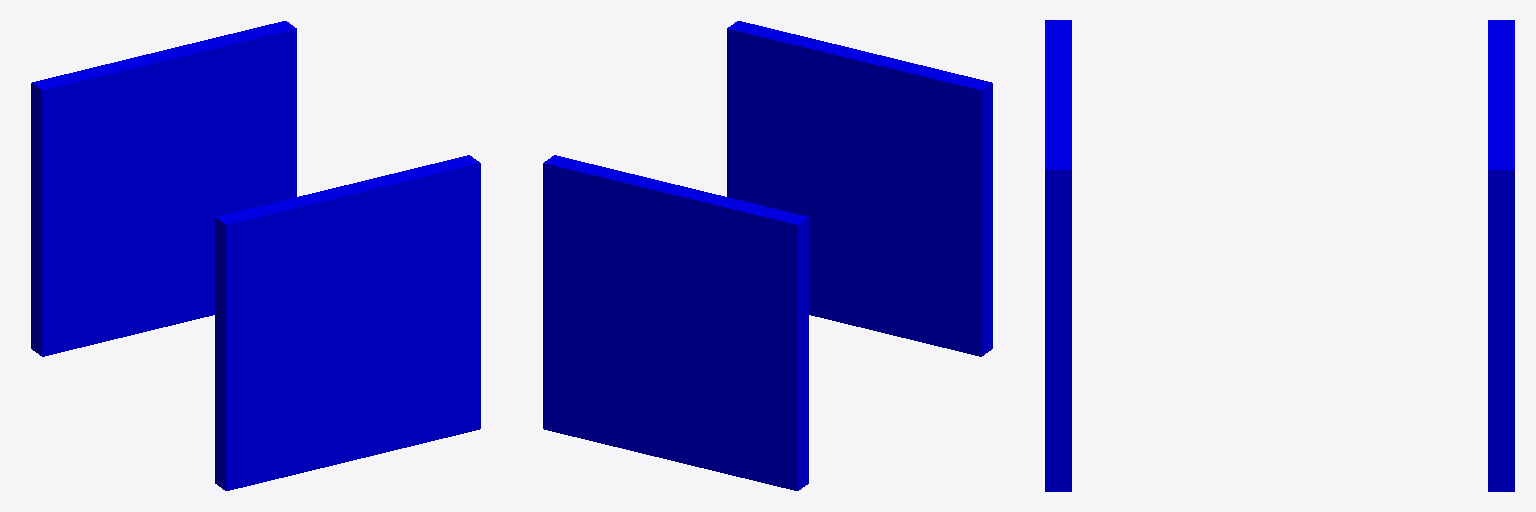
The robot description file, URDF, robot "vx300":
<?xml version="1.0" ?>
<!-- =================================================================================== -->
<!-- |    This document was autogenerated by xacro from vx300.urdf.xacro               | -->
<!-- |    EDITING THIS FILE BY HAND IS NOT RECOMMENDED                                 | -->
<!-- =================================================================================== -->
<robot name="vx300">
  <!-- <material name="interbotix_black">
    <texture filename="meshes/interbotix_black.png"/>
  </material> -->
  <link name="vx300/base_link">
    <visual>
      <origin rpy="0 0 1.5707963267948966" xyz="0 0 0"/>
      <geometry>
        <mesh filename="meshes/vx300_meshes/vx300_1_base.stl" scale="0.001 0.001 0.001"/>
      </geometry>
    </visual>
    <collision>
      <origin rpy="0 0 1.5707963267948966" xyz="0 0 0"/>
      <geometry>
        <mesh filename="meshes/vx300_meshes/vx300_1_base.stl" scale="0.001 0.001 0.001"/>
      </geometry>
    </collision>
    <inertial>
      <origin rpy="0 0 1.5707963267948966" xyz="-0.0534774000 -0.0005625750 0.0205961000"/>
      <mass value="0.969034"/>
      <inertia ixx="0.0060240000" ixy="0.0000471300" ixz="0.0000038510" iyy="0.0017000000" iyz="-0.0000841500" izz="0.0071620000"/>
    </inertial>
  </link>
  <joint name="waist" type="revolute">
    <axis xyz="0 0 1"/>
    <limit effort="30" lower="-3.141582653589793" upper="3.141582653589793" velocity="3.141592653589793"/>
    <origin rpy="0 0 0" xyz="0 0 0.079"/>
    <parent link="vx300/base_link"/>
    <child link="vx300/shoulder_link"/>
    <dynamics friction="0.1"/>
  </joint>

  <link name="vx300/shoulder_link">
    <visual>
      <origin rpy="0 0 1.5707963267948966" xyz="0 0 -0.003"/>
      <geometry>
        <mesh filename="meshes/vx300_meshes/vx300_2_shoulder.stl" scale="0.001 0.001 0.001"/>
      </geometry>
    </visual>
    <collision>
      <origin rpy="0 0 1.5707963267948966" xyz="0 0 -0.003"/>
      <geometry>
        <mesh filename="meshes/vx300_meshes/vx300_2_shoulder.stl" scale="0.001 0.001 0.001"/>
      </geometry>
    </collision>
    <inertial>
      <origin rpy="0 0 1.5707963267948966" xyz="0.0002592330 -0.0000033552 0.0116129000"/>
      <mass value="0.798614"/>
      <inertia ixx="0.0009388000" ixy="-0.0000000010" ixz="-0.0000000191" iyy="0.0011380000" iyz="0.0000059568" izz="0.0012010000"/>
    </inertial>
  </link>
  <joint name="shoulder" type="revolute">
    <axis xyz="0 1 0"/>
    <limit effort="20" lower="-1.8500490071139892" upper="1.2566370614359172" velocity="3.141592653589793"/>
    <origin rpy="0 0 0" xyz="0 0 0.04805"/>
    <parent link="vx300/shoulder_link"/>
    <child link="vx300/upper_arm_link"/>
    <dynamics friction="0.1"/>
  </joint>
  <link name="vx300/upper_arm_link">
    <visual>
      <origin rpy="0 0 1.5707963267948966" xyz="0 0 0"/>
      <geometry>
        <mesh filename="meshes/vx300_meshes/vx300_3_upper_arm.stl" scale="0.001 0.001 0.001"/>
      </geometry>
    </visual>
    <collision>
      <origin rpy="0 0 1.5707963267948966" xyz="0 0 0"/>
      <geometry>
        <mesh filename="meshes/vx300_meshes/vx300_3_upper_arm.stl" scale="0.001 0.001 0.001"/>
      </geometry>
    </collision>
    <inertial>
      <origin rpy="0 0 1.5707963267948966" xyz="0.0206949000 0.0000000004 0.2264590000"/>
      <mass value="0.792592"/>
      <inertia ixx="0.0089250000" ixy="0.0000000000" ixz="0.0000000000" iyy="0.0089370000" iyz="0.0012010000" izz="0.0009357000"/>
    </inertial>
  </link>
  <joint name="elbow" type="revolute">
    <axis xyz="0 1 0"/>
    <limit effort="15" lower="-1.7627825445142729" upper="1.6057029118347832" velocity="3.141592653589793"/>
    <origin rpy="0 0 0" xyz="0.05955 0 0.3"/>
    <parent link="vx300/upper_arm_link"/>
    <child link="vx300/forearm_link"/>
    <dynamics friction="0.1"/>
  </joint>
  <link name="vx300/forearm_link">
    <visual>
      <origin rpy="0 0 1.5707963267948966" xyz="0 0 0"/>
      <geometry>
        <mesh filename="meshes/vx300_meshes/vx300_4_forearm.stl" scale="0.001 0.001 0.001"/>
      </geometry>
    </visual>
    <collision>
      <origin rpy="0 0 1.5707963267948966" xyz="0 0 0"/>
      <geometry>
        <mesh filename="meshes/vx300_meshes/vx300_4_forearm.stl" scale="0.001 0.001 0.001"/>
      </geometry>
    </collision>
    <inertial>
      <origin rpy="0 0 1.5707963267948966" xyz="0.1812650000 -0.0002065037 0.0000000000"/>
      <mass value="0.544659"/>
      <inertia ixx="0.0054470000" ixy="-0.0000119800" ixz="0.0000000000" iyy="0.0002267000" iyz="0.0000000000" izz="0.0055740000"/>
    </inertial>
  </link>
  <joint name="wrist_angle" type="revolute">
    <axis xyz="0 1 0"/>
    <limit effort="5" lower="-1.8675022996339325" upper="2.234021442552742" velocity="3.141592653589793"/>
    <origin rpy="0 0 0" xyz="0.3 0 0"/>
    <parent link="vx300/forearm_link"/>
    <child link="vx300/wrist_link"/>
    <dynamics friction="0.1"/>
  </joint>
  <link name="vx300/wrist_link">
    <visual>
      <origin rpy="0 0 1.5707963267948966" xyz="0 0 0"/>
      <geometry>
        <mesh filename="meshes/vx300_meshes/vx300_5_wrist.stl" scale="0.001 0.001 0.001"/>
      </geometry>
    </visual>
    <collision>
      <origin rpy="0 0 1.5707963267948966" xyz="0 0 0"/>
      <geometry>
        <mesh filename="meshes/vx300_meshes/vx300_5_wrist.stl" scale="0.001 0.001 0.001"/>
      </geometry>
    </collision>
    <inertial>
      <origin rpy="0 0 1.5707963267948966" xyz="0.0467430000 -0.0000076652 0.0105650000"/>
      <mass value="0.115395"/>
      <inertia ixx="0.0000463100" ixy="0.0000000195" ixz="0.0000000023" iyy="0.0000451400" iyz="0.0000042002" izz="0.0000527000"/>
    </inertial>
  </link>
  <joint name="wrist_rotate" type="revolute">
    <axis xyz="1 0 0"/>
    <limit effort="1" lower="-3.141582653589793" upper="3.141582653589793" velocity="3.141592653589793"/>
    <origin rpy="0 0 0" xyz="0.069744 0 0"/>
    <parent link="vx300/wrist_link"/>
    <child link="vx300/gripper_link"/>
    <dynamics friction="0.1"/>
  </joint>
  <link name="vx300/gripper_link">
    <visual>
      <origin rpy="0 0 1.5707963267948966" xyz="-0.02 0 0"/>
      <geometry>
        <mesh filename="meshes/vx300_meshes/vx300_6_gripper.stl" scale="0.001 0.001 0.001"/>
      </geometry>
    </visual>
    <collision>
      <origin rpy="0 0 1.5707963267948966" xyz="-0.02 0 0"/>
      <geometry>
        <mesh filename="meshes/vx300_meshes/vx300_6_gripper.stl" scale="0.001 0.001 0.001"/>
      </geometry>
    </collision>
    <inertial>
      <origin rpy="0 0 1.5707963267948966" xyz="0.0230010000 0.0000000000 0.0115230000"/>
      <mass value="0.097666"/>
      <inertia ixx="0.0000326800" ixy="0.0000000000" ixz="0.0000000000" iyy="0.0000243600" iyz="0.0000002785" izz="0.0000211900"/>
    </inertial>
  </link>
  <joint name="ee_arm" type="fixed">
    <axis xyz="1 0 0"/>
    <origin rpy="0 0 0" xyz="0.042825 0 0"/>
    <parent link="vx300/gripper_link"/>
    <child link="vx300/ee_arm_link"/>
  </joint>
  <link name="vx300/ee_arm_link">
    <inertial>
      <mass value="0.001"/>
      <inertia ixx="0.0001" ixy="0" ixz="0" iyy="0.0001" iyz="0" izz="0.0001"/>
    </inertial>
  </link>
  <joint name="gripper" type="fixed">
    <axis xyz="1 0 0"/>
    <limit effort="1" velocity="3.141592653589793"/>
    <origin rpy="0 0 0" xyz="0.005675 0 0"/>
    <parent link="vx300/ee_arm_link"/>
    <child link="vx300/gripper_prop_link"/>
    <dynamics friction="0.1"/>
  </joint>
  <link name="vx300/gripper_prop_link">
    <visual>
      <origin rpy="0 0 1.5707963267948966" xyz="-0.0685 0 0"/>
      <geometry>
        <mesh filename="meshes/vx300_meshes/vx300_7_gripper_prop.stl" scale="0.001 0.001 0.001"/>
      </geometry>
    </visual>
    <collision>
      <origin rpy="0 0 1.5707963267948966" xyz="-0.0685 0 0"/>
      <geometry>
        <mesh filename="meshes/vx300_meshes/vx300_7_gripper_prop.stl" scale="0.001 0.001 0.001"/>
      </geometry>
    </collision>
    <inertial>
      <origin rpy="0 0 1.5707963267948966" xyz="0.0023780000 0.0000000285 0.0000000000"/>
      <mass value="0.008009"/>
      <inertia ixx="0.0000020386" ixy="0.0000000000" ixz="0.0000006559" iyy="0.0000042979" iyz="0.0000000000" izz="0.0000023796"/>
    </inertial>
  </link>
  <!-- If the AR tag is being used, then add the AR tag mount -->
  <!-- If the gripper bar is being used, then also add the gripper bar -->
  <joint name="gripper_bar" type="fixed">
    <axis xyz="1 0 0"/>
    <origin rpy="0 0 0" xyz="0 0 0"/>
    <parent link="vx300/ee_arm_link"/>
    <child link="vx300/gripper_bar_link"/>
  </joint>
  <link name="vx300/gripper_bar_link">
    <visual>
      <origin rpy="0 0 1.5707963267948966" xyz="-0.063 0 0"/>
      <geometry>
        <mesh filename="meshes/vx300_meshes/vx300_8_gripper_bar.stl" scale="0.001 0.001 0.001"/>
      </geometry>
    </visual>
    <collision>
      <origin rpy="0 0 1.5707963267948966" xyz="-0.063 0 0"/>
      <geometry>
        <mesh filename="meshes/vx300_meshes/vx300_8_gripper_bar.stl" scale="0.001 0.001 0.001"/>
      </geometry>
    </collision>
    <inertial>
      <origin rpy="0 0 1.5707963267948966" xyz="0.0067940000 -0.0000004272 -0.0007760000"/>
      <mass value="0.150986"/>
      <inertia ixx="0.0000789500" ixy="-0.0000000012" ixz="0.0000001341" iyy="0.0003283000" iyz="0.0000017465" izz="0.0003095000"/>
    </inertial>
  </link>
  <joint name="ee_bar" type="fixed">
    <axis xyz="1 0 0"/>
    <origin rpy="0 0 0" xyz="0.025875 0 0"/>
    <parent link="vx300/gripper_bar_link"/>
    <child link="vx300/fingers_link"/>
  </joint>
  <link name="vx300/fingers_link">
    <inertial>
      <mass value="0.001"/>
      <inertia ixx="0.0001" ixy="0" ixz="0" iyy="0.0001" iyz="0" izz="0.0001"/>
    </inertial>
  </link>
  <!-- If the gripper fingers are being used, add those as well -->
  <joint name="left_finger" type="prismatic">
    <axis xyz="0 1 0"/>
    <limit effort="1" lower="0.021" upper="0.057" velocity="3.14"/>
    <origin rpy="0 0 0" xyz="0 0 0"/>
    <parent link="vx300/fingers_link"/>
    <child link="vx300/left_finger_link"/>
    <dynamics friction="0.1"/>
  </joint>
  <link name="vx300/left_finger_link">
    <visual>
      <origin rpy="1.5707963267948966 -3.141592653589793 1.5707963267948966" xyz="-0.0404 -0.0575 0"/>
      <geometry>
        <mesh filename="meshes/vx300_meshes/vx300_9_gripper_finger.stl" scale="0.001 0.001 0.001"/>
      </geometry>
    </visual>
    <collision>
      <origin rpy="1.5707963267948966 -3.141592653589793 1.5707963267948966" xyz="-0.0404 -0.0575 0"/>
      <geometry>
        <mesh filename="meshes/vx300_meshes/vx300_9_gripper_finger.stl" scale="0.001 0.001 0.001"/>
      </geometry>
    </collision>
    <inertial>
      <origin rpy="3.141592653589793 3.141592653589793 1.5707963267948966" xyz="0.0173440000 -0.0060692000 0.0000000000"/>
      <!-- <mass value="0.034796"/> -->
      <mass value="0.001"/>
      <inertia ixx="0.0000243300" ixy="-0.0000024004" ixz="0.0000000000" iyy="0.0000125500" iyz="0.0000000000" izz="0.0000141700"/>
    </inertial>
  </link>
  
  <!-- If the tactile sensors are being used, add those as well -->
  <joint name="left_tactile_1" type="fixed">
    <axis xyz="1 0 0"/>
    <origin rpy="0 0 1.5707" xyz="0 0 0"/>
    <parent link="vx300/left_finger_link"/>
    <child link="vx300/left_tactile_map_link1"/>
  </joint>
  <link name="vx300/left_tactile_map_link1">
    <visual>
      <origin rpy="0 0 0" xyz="-0.014 -0.04 0"/>
      <geometry>
        <box size="0.003001 0.04 0.04"/>
      </geometry>
      <material name="blue">
        <color rgba= "0 0 1 1"/>
      </material>
    </visual>
    <collision>
      <origin rpy="0 0 0" xyz="-0.014 -0.04 0"/>
      <geometry>
        <box size="0.003001 0.04 0.04"/>
      </geometry>
    </collision>
    <inertial>
      <origin rpy="3.141592653589793 3.141592653589793 1.5707963267948966" xyz="0.0173440000 -0.0060692000 0.0000000000"/>
      <!-- <mass value="0.034796"/> -->
      <mass value="0.0005"/>
      <inertia ixx="0.0000243300" ixy="-0.0000024004" ixz="0.0000000000" iyy="0.0000125500" iyz="0.0000000000" izz="0.0000141700"/>
    </inertial>
  </link>

  
  <joint name="right_finger" type="prismatic">
    <axis xyz="0 1 0"/>
    <limit effort="1" lower="-0.057" upper="-0.021" velocity="3.14"/>
    <origin rpy="0 0 0" xyz="0 0 0"/>
    <parent link="vx300/fingers_link"/>
    <child link="vx300/right_finger_link"/>
    <dynamics friction="0.1"/>
    <mimic joint="left_finger" multiplier="-1" offset="0"/>
  </joint>
  <link name="vx300/right_finger_link">
    <visual>
      <origin rpy="-1.5707963267948966 3.141592653589793 -1.5707963267948966" xyz="-0.0404 0.0575 0 "/>
      <geometry>
        <mesh filename="meshes/vx300_meshes/vx300_9_gripper_finger.stl" scale="0.001 0.001 0.001"/>
      </geometry>
    </visual>
    <collision>
      <origin rpy="-1.5707963267948966 3.141592653589793 -1.5707963267948966" xyz="-0.0404 0.0575 0 "/>
      <geometry>
        <mesh filename="meshes/vx300_meshes/vx300_9_gripper_finger.stl" scale="0.001 0.001 0.001"/>
      </geometry>
    </collision>
    <inertial>
      <origin rpy="0 3.141592653589793 1.5707963267948966" xyz="0.0173440000 0.0060692000  0.0000000000"/>
      <!-- <mass value="0.034796"/> -->
      <mass value="0.001"/>
      <inertia ixx="0.0000243300" ixy="0.0000024001" ixz="0.0000000000" iyy="0.0000125500" iyz="0.0000000000" izz="0.0000141700"/>
    </inertial>
  </link>

  <!-- If the tactile sensors are being used, add those as well -->
  <joint name="right_tactile_1" type="fixed">
    <axis xyz="1 0 0"/>
    <origin rpy="0 0 1.5707" xyz="0 0 0"/>
    <parent link="vx300/right_finger_link"/>
    <child link="vx300/right_tactile_map_link1"/>
  </joint>
  <link name="vx300/right_tactile_map_link1">
    <visual>
      <origin rpy="0 0 0" xyz="0.014 -0.04 0"/>
      <geometry>
        <box size="0.003001 0.04 0.04"/>
      </geometry>
      <material name="blue">
        <color rgba= "0 0 1 1"/>
      </material>
    </visual>
    <collision>
      <origin rpy="0 0 0" xyz="0.014 -0.04 0"/>
      <geometry>
        <box size="0.003001 0.04 0.04"/>
      </geometry>
    </collision>
    <inertial>
      <origin rpy="3.141592653589793 3.141592653589793 1.5707963267948966" xyz="0.0173440000 -0.0060692000 0.0000000000"/>
      <!-- <mass value="0.034796"/> -->
      <mass value="0.0005"/>
      <inertia ixx="0.0000243300" ixy="-0.0000024004" ixz="0.0000000000" iyy="0.0000125500" iyz="0.0000000000" izz="0.0000141700"/>
    </inertial>
  </link>

  <joint name="ee_gripper" type="fixed">
    <axis xyz="1 0 0"/>
    <origin rpy="0 0 0" xyz="0.0385 0 0"/>
    <parent link="vx300/fingers_link"/>
    <child link="vx300/ee_gripper_link"/>
  </joint>
  <link name="vx300/ee_gripper_link">
    <inertial>
      <mass value="0.001"/>
      <inertia ixx="0.0001" ixy="0" ixz="0" iyy="0.0001" iyz="0" izz="0.0001"/>
    </inertial>
  </link>
</robot>

--- Render facts (derived) ---
The picture shows the robot from 3 angles, left to right: view 1: azimuth 30°, elevation 25°; view 2: azimuth 150°, elevation 25°; view 3: azimuth 270°, elevation 25°; orthographic projection.
Model vx300 with 15 links and 14 joints (5 revolute, 2 prismatic, 7 fixed), rooted at vx300/base_link, posed all joints at 0 but 2 set to mid-range because 0 is outside their limits (left_finger = 0.039, right_finger = -0.039).
Visible links, largest first — view 1: vx300/right_tactile_map_link1, vx300/left_tactile_map_link1; view 2: vx300/left_tactile_map_link1, vx300/right_tactile_map_link1; view 3: vx300/left_tactile_map_link1, vx300/right_tactile_map_link1.
Boxes of the visible links, bbox=[...] form: vx300/right_tactile_map_link1: bbox=[215, 155, 480, 490]; vx300/left_tactile_map_link1: bbox=[31, 21, 296, 356]; vx300/left_tactile_map_link1: bbox=[543, 155, 808, 490]; vx300/right_tactile_map_link1: bbox=[727, 21, 992, 356]; vx300/left_tactile_map_link1: bbox=[1488, 20, 1514, 491]; vx300/right_tactile_map_link1: bbox=[1045, 20, 1071, 491].
Size in the robot's own frame: 0.04 by 0.053 by 0.04 metres.
Meshes: 9 distinct files referenced, 0 mesh visuals loaded (none loaded); not drawn: 10 (reference not matched to a file when rendering).